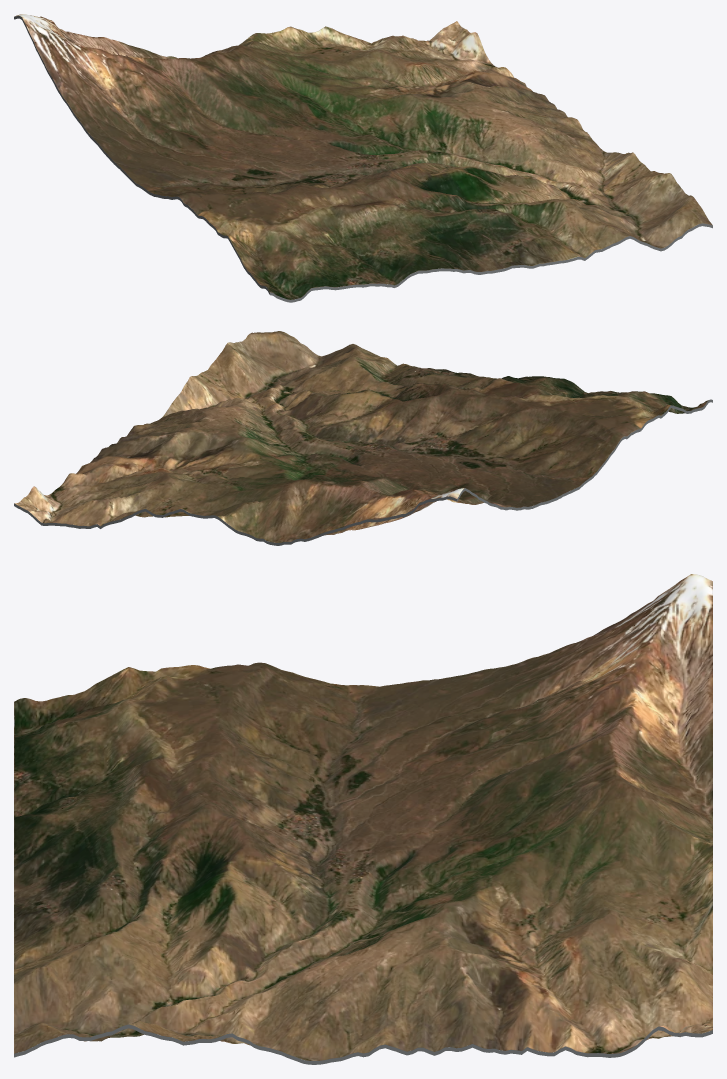
3 renders of one model, top to bottom at view 1: azimuth 30°, elevation 25°; view 2: azimuth 150°, elevation 25°; view 3: azimuth 270°, elevation 25°, orthographic. The views are drawn at different scales.
Parts seen in each view (by area): view 1: terrain, skirt; view 2: terrain, skirt; view 3: terrain, skirt.
Boxes of the visible parts, x1,y1,x2,y2 form: terrain: [15, 14, 712, 299]; skirt: [14, 15, 712, 302]; terrain: [14, 331, 708, 542]; skirt: [14, 399, 712, 545]; terrain: [14, 574, 712, 1060]; skirt: [14, 1024, 712, 1064].
Bounding box in the file's own units: 15000 × 4793 × 15000.
1 material, 1 textured.
